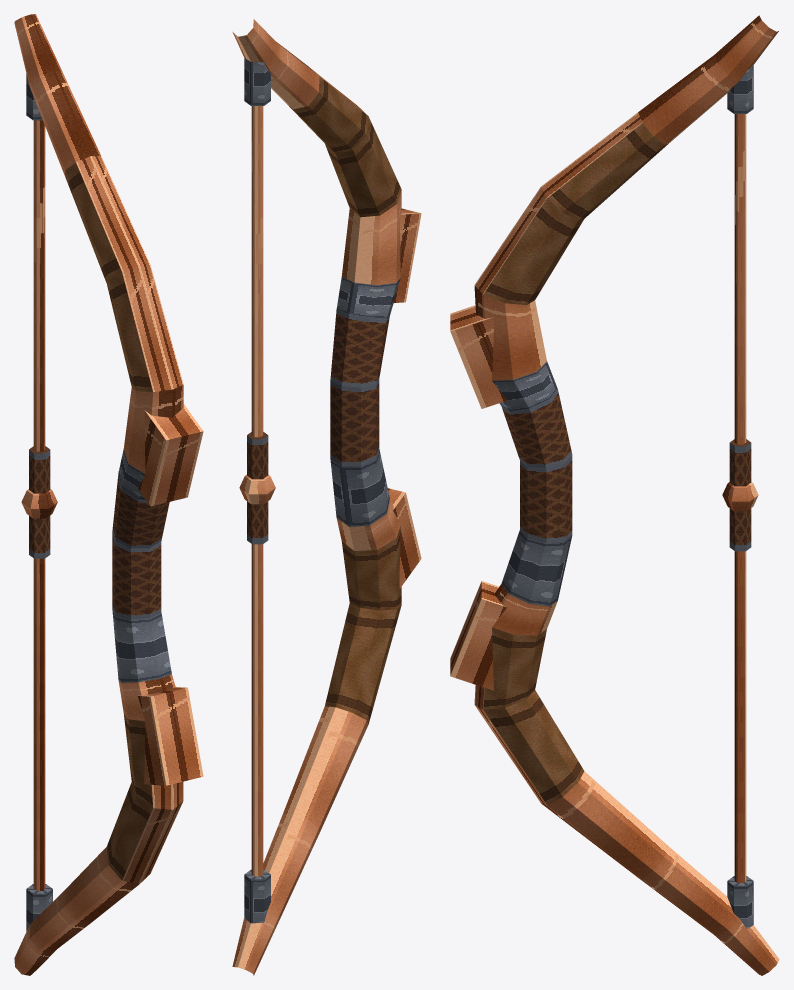
File: arco_de_cobre.glb
3 renders of one model, left to right at view 1: azimuth 30°, elevation 25°; view 2: azimuth 150°, elevation 25°; view 3: azimuth 270°, elevation 25°, orthographic.
Parts seen in each view (by area): view 1: arco_de_cobre; view 2: arco_de_cobre; view 3: arco_de_cobre.
Part boxes in pixels (x1,y1,x2,y2): arco_de_cobre: [14, 14, 203, 975]; arco_de_cobre: [232, 19, 421, 975]; arco_de_cobre: [450, 15, 779, 975].
Size of the model in its own units: 0.07 by 1.28 by 0.3981.
1 material, 1 textured.
